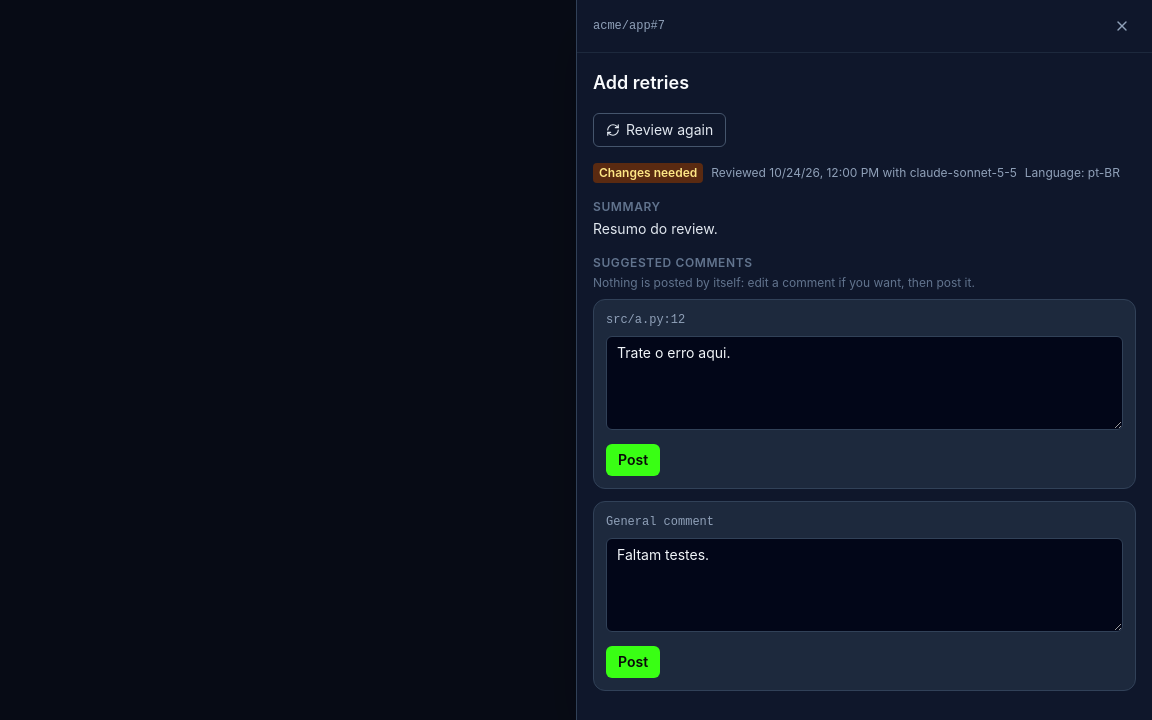
it: ReviewPanel › says when a line comment went in as a general one
Click the button "Post" below "src/a.py:12": coordinates (633, 460) [606,444,660,476]
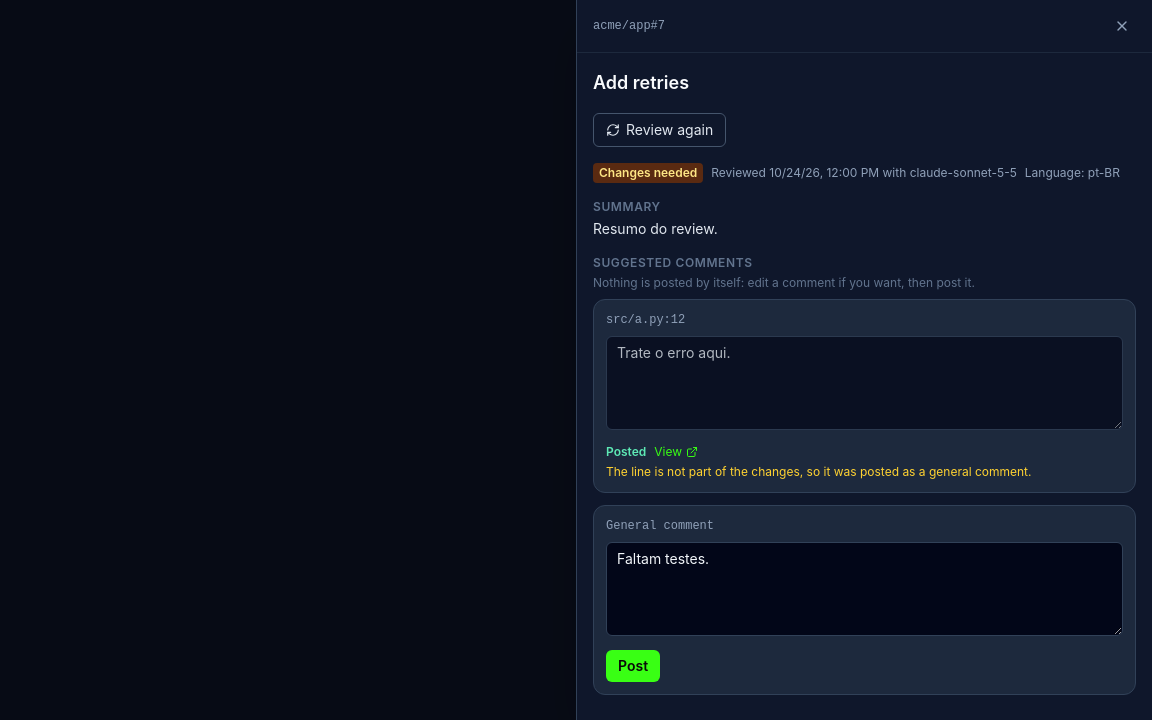
Expected: the text "posted as a general comment" is shown, [606,464,1032,479]
